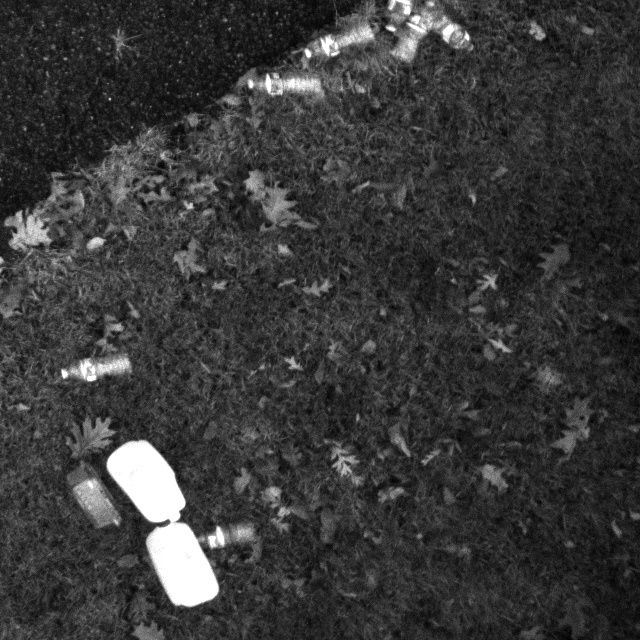bottle: (412, 0, 481, 60), (295, 19, 376, 69), (384, 7, 431, 81), (49, 350, 135, 390), (185, 517, 258, 564), (236, 67, 326, 105)
can: (141, 522, 228, 619), (104, 436, 192, 528)
container: (58, 453, 123, 540)
